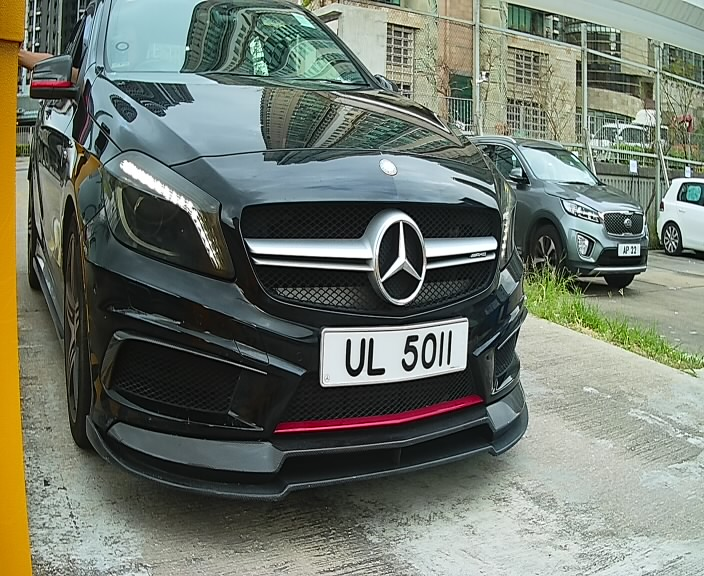Car: (33, 21, 554, 513)
License Plate: (310, 310, 482, 399)
